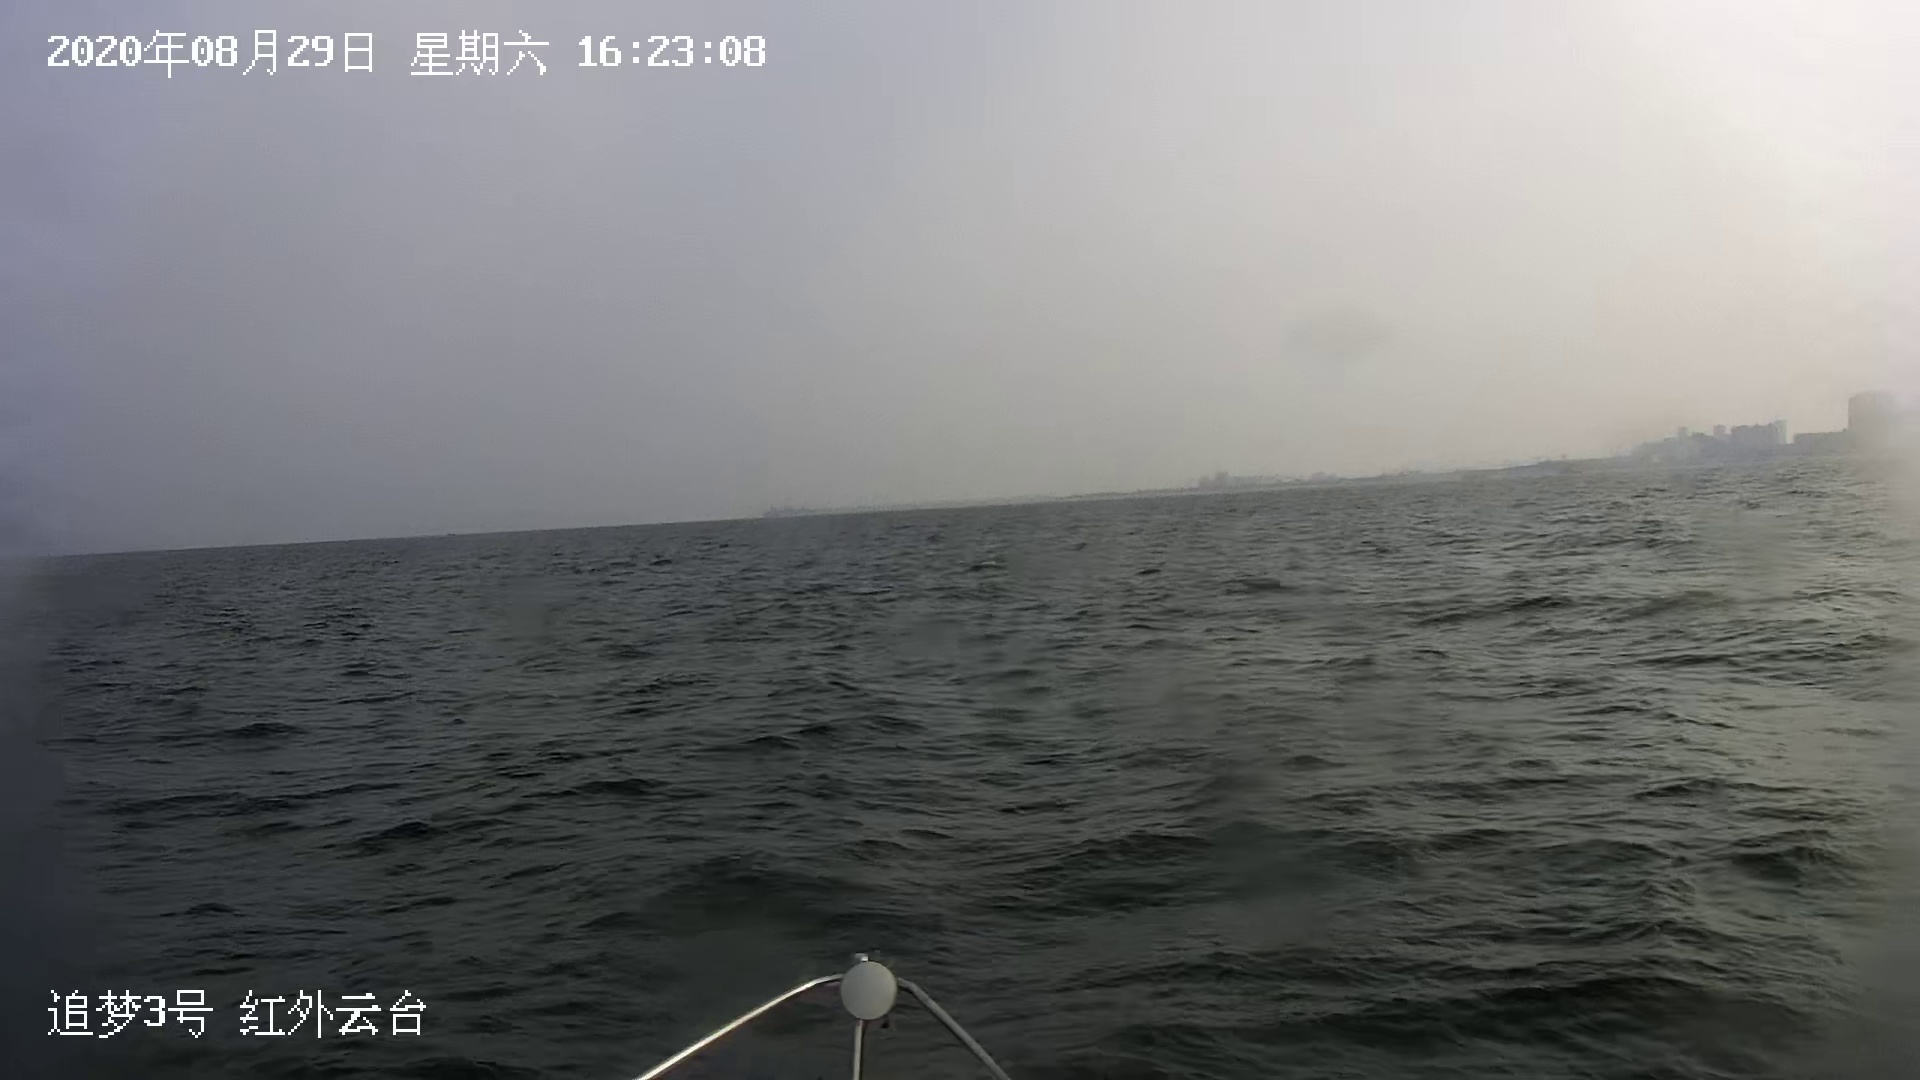coast: (757, 385, 1920, 533)
